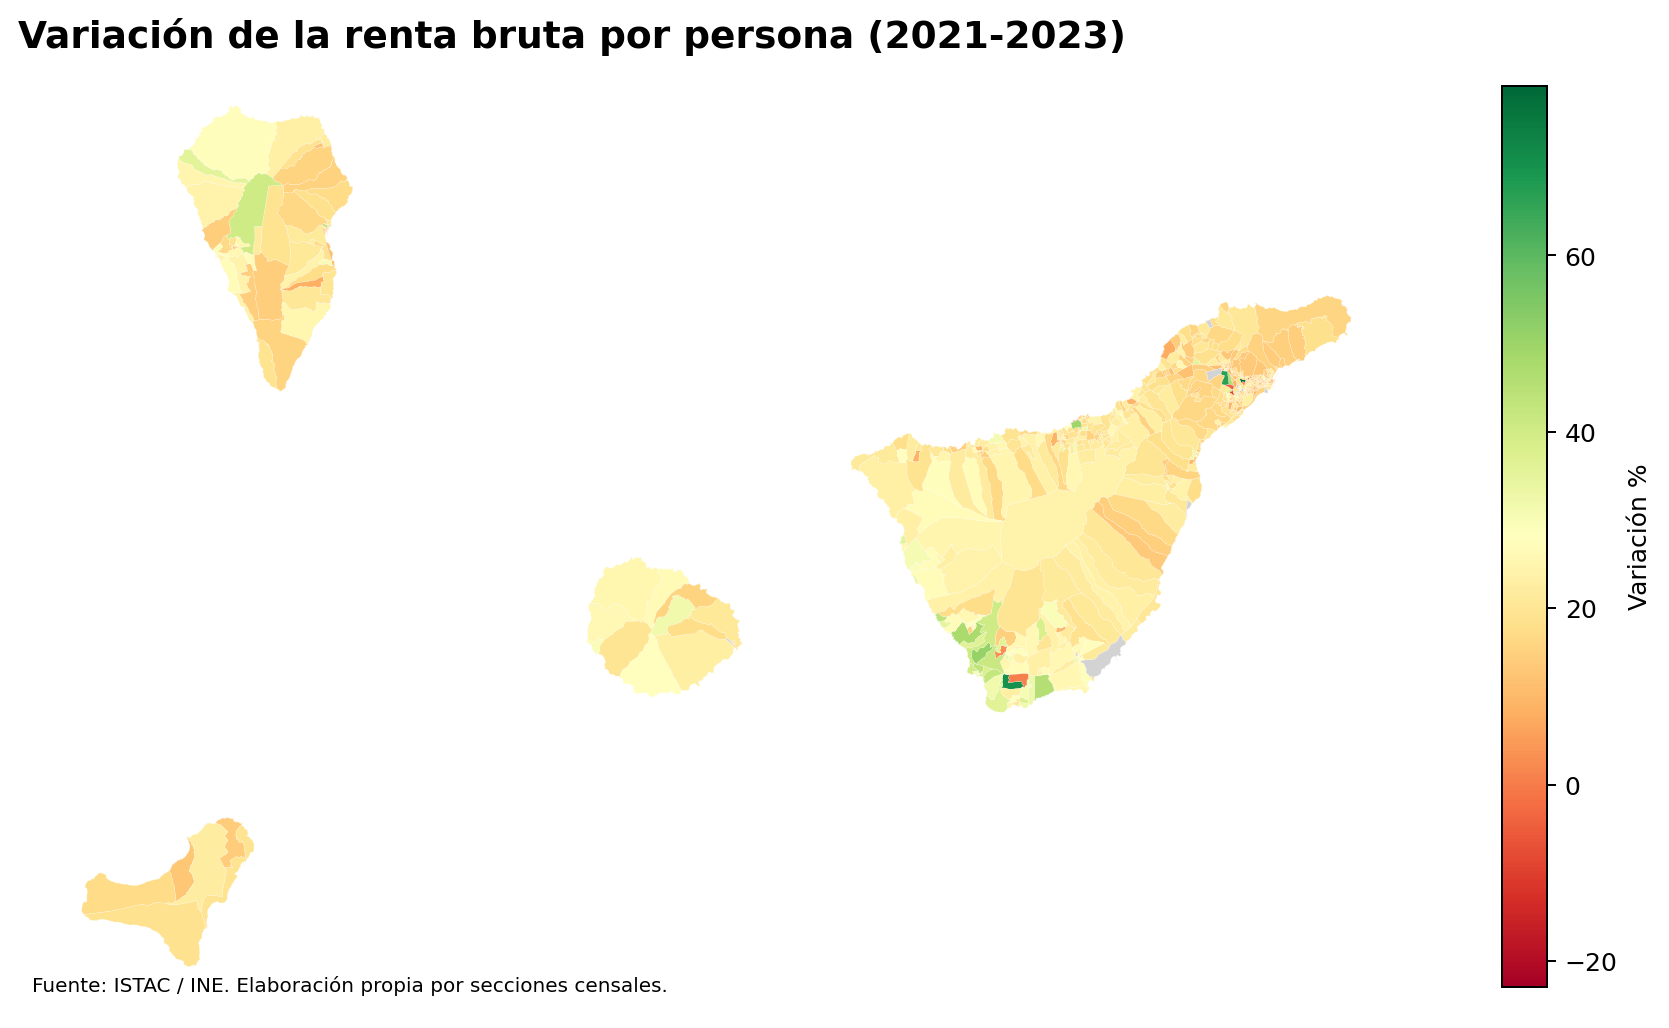

Layout of this report page (visuals, bound fields, positions):
{"tool":"powerbi","page":{"name":"Página 1","canvas":[1280,720],"ordinal":0},"visuals":[{"type":"shapeMap","title":"Mapa Municipal Canarias","fields":{"Category":["Municipios-2024.label"],"Value":["Sum(Municipios-2024.valor)"]},"box":[9.7,0,1117.2,650.3],"z":0}]}

Visuals, with their boxes on the page's 1280x720 design canvas (x1, y1, x2, y2). These are canvas units, not pixel positions in the 1669x1028 screenshot, which may show the page scaled, cropped or inside an application window:
"Mapa Municipal Canarias" shapeMap: crop(10, 0, 1127, 650)
